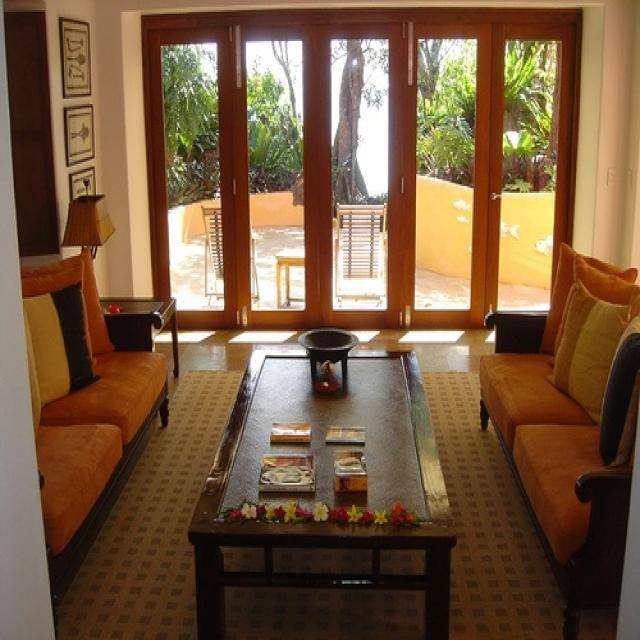sofa: (476, 240, 639, 636), (17, 248, 174, 614)
